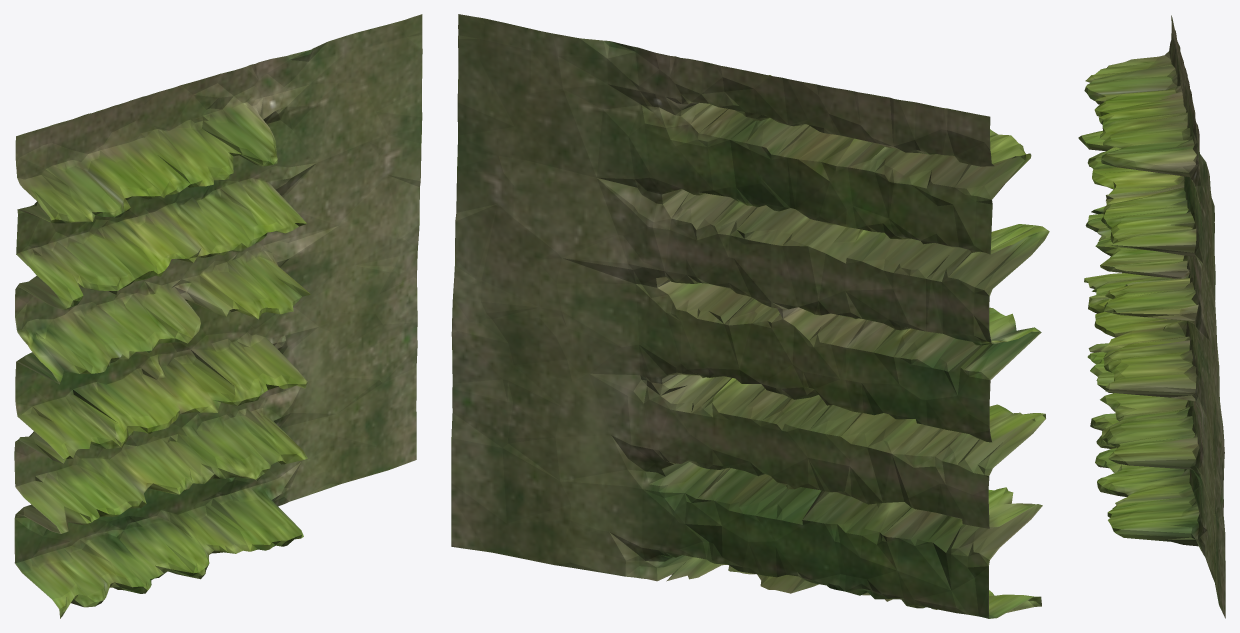
Rendered from map_30_70.obj.
The picture shows the model from 3 angles, left to right: view 1: azimuth 30°, elevation 25°; view 2: azimuth 150°, elevation 25°; view 3: azimuth 270°, elevation 25°; orthographic projection. The views are drawn at different scales.
Parts seen in each view (by area): view 1: grp1; view 2: grp1; view 3: grp1.
Boxes of the visible parts, x1,y1,x2,y2 form: grp1: (14,14,422,618); grp1: (451,14,1049,618); grp1: (1078,15,1225,618).
Bounding box in the file's own units: 10 × 10 × 3.24.
1 material, 1 textured.
